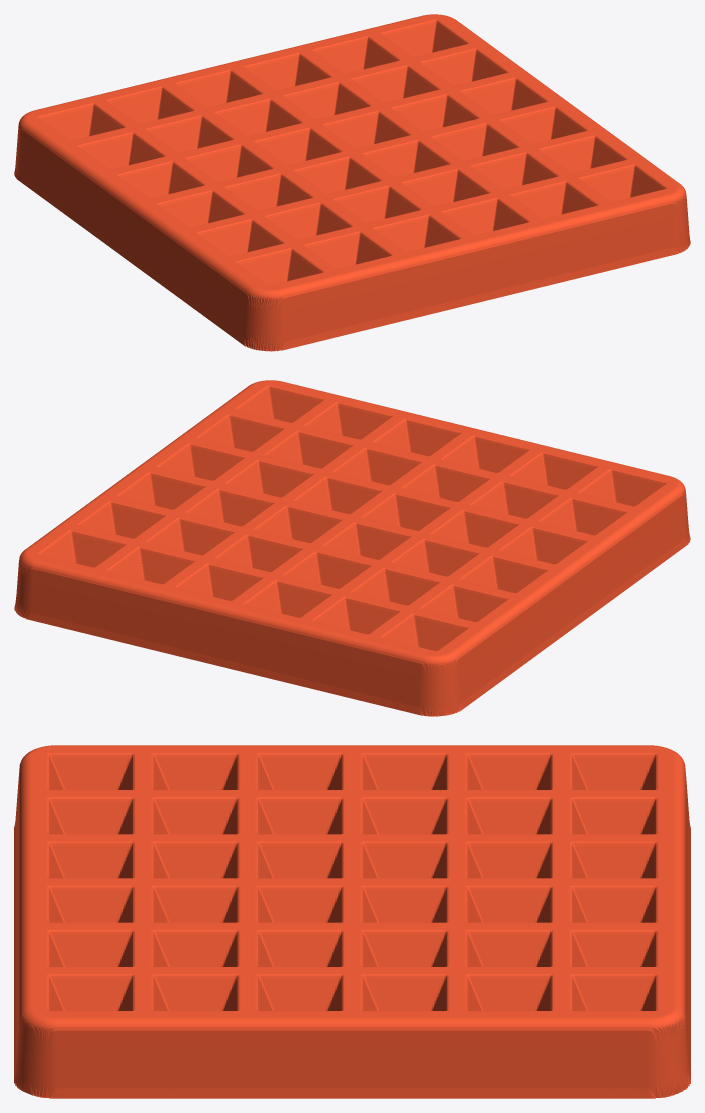
File: mold.glb
3 renders of one model, top to bottom at view 1: azimuth 30°, elevation 25°; view 2: azimuth 150°, elevation 25°; view 3: azimuth 270°, elevation 25°, orthographic. The views are drawn at different scales.
Parts seen in each view (by area): view 1: geometry_0; view 2: geometry_0; view 3: geometry_0.
Part boxes in pixels (left/top/right/bottom): geometry_0: left=14, top=14, right=690, bottom=351; geometry_0: left=14, top=380, right=690, bottom=716; geometry_0: left=14, top=745, right=690, bottom=1098.
Bounding box in the file's own units: 0.1434 × 0.0172 × 0.1434.
